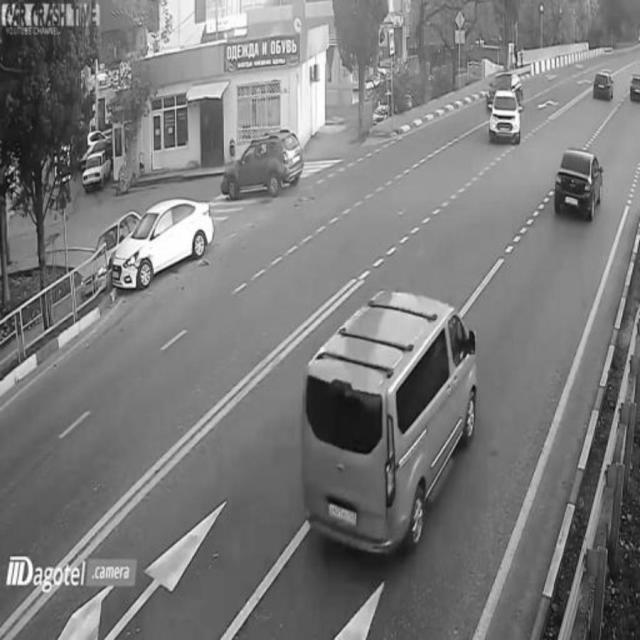accident: (90, 198, 214, 292)
vehicle: (299, 282, 483, 548), (215, 132, 308, 205), (554, 146, 600, 226), (489, 82, 524, 148), (78, 146, 115, 188), (590, 66, 616, 108), (628, 66, 640, 106)
